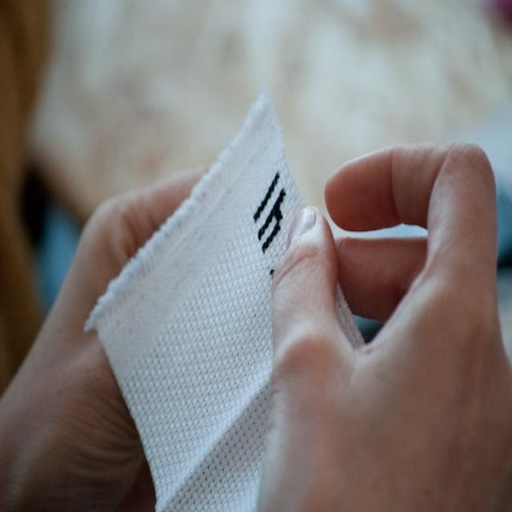hand: (240, 106, 512, 492), (0, 159, 214, 509)
